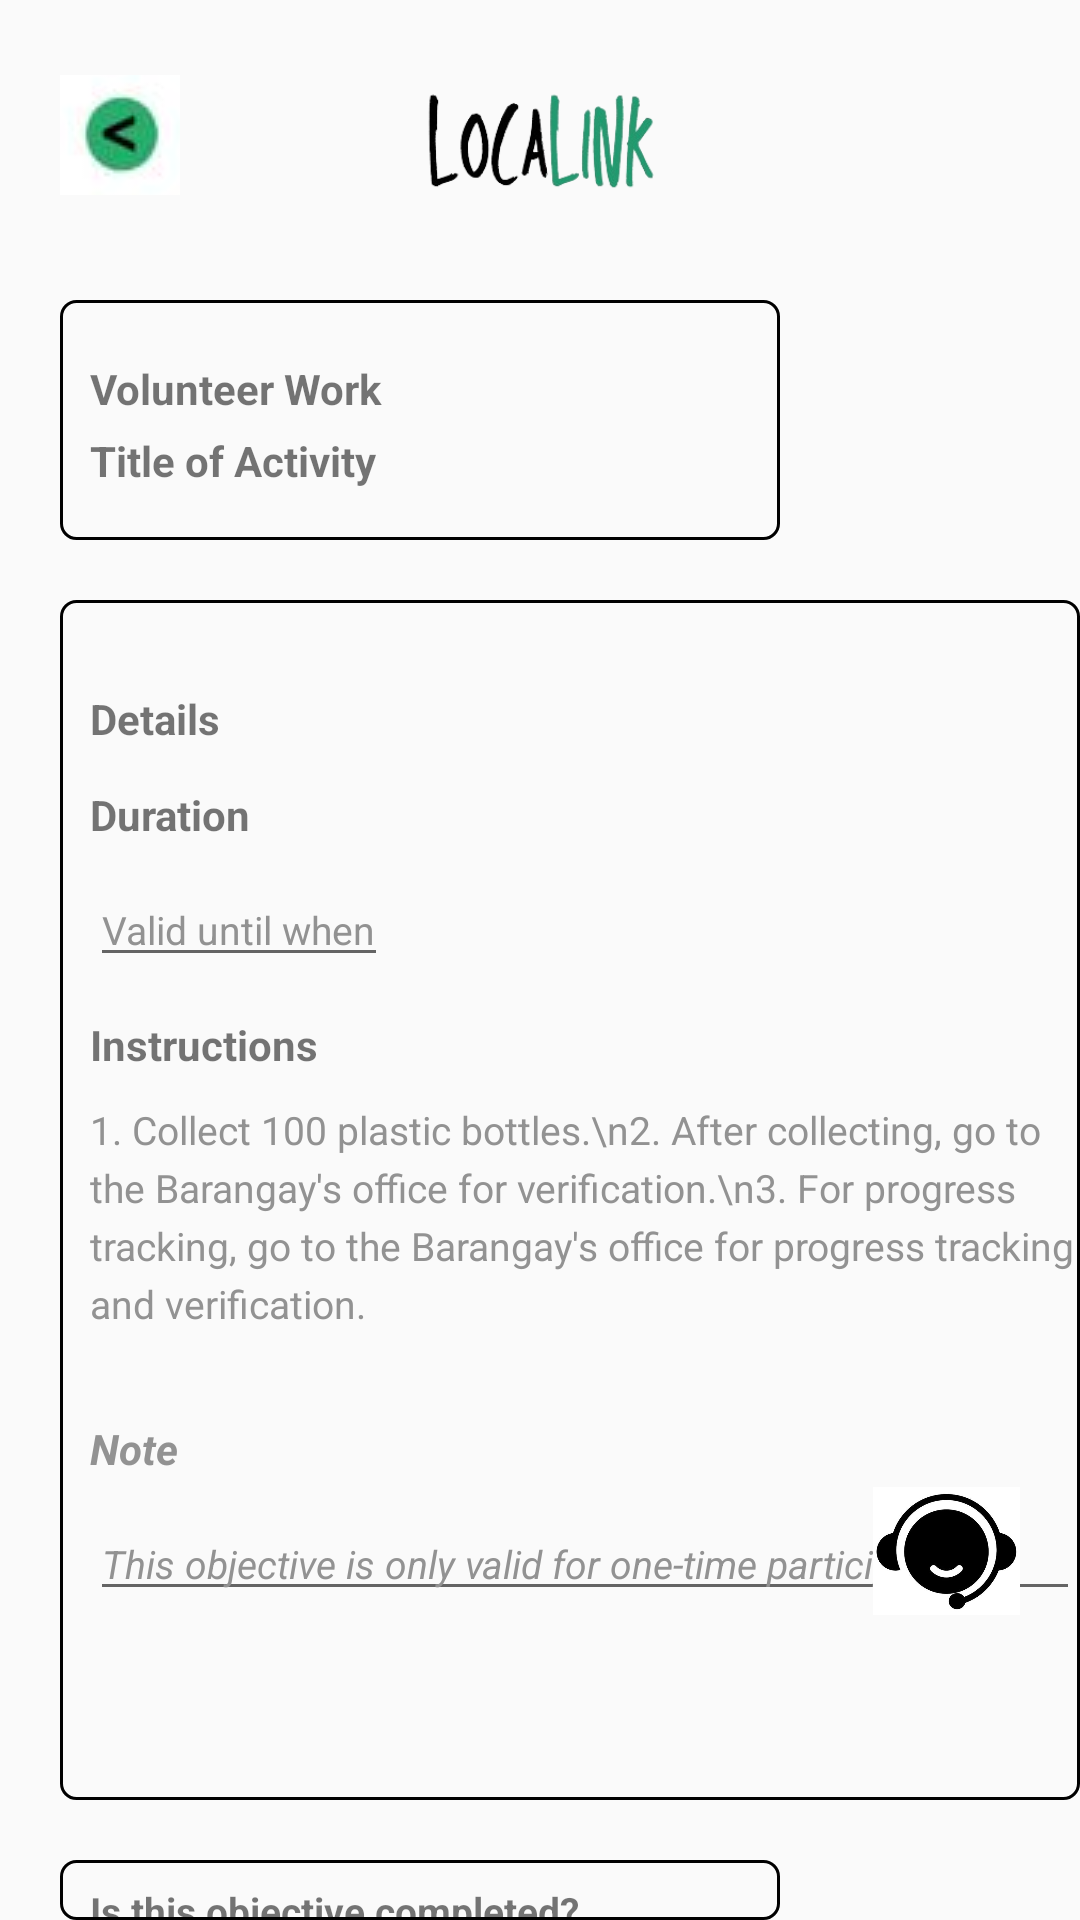

Locate icon controls on the screen. Image size 1080×1920, boxes as {"x1": x1, "y1": y1, "x2": x2, "y2": y2}.
backbtn: {"x1": 83, "y1": 94, "x2": 160, "y2": 175}
customersupport: {"x1": 876, "y1": 1494, "x2": 1017, "y2": 1609}
